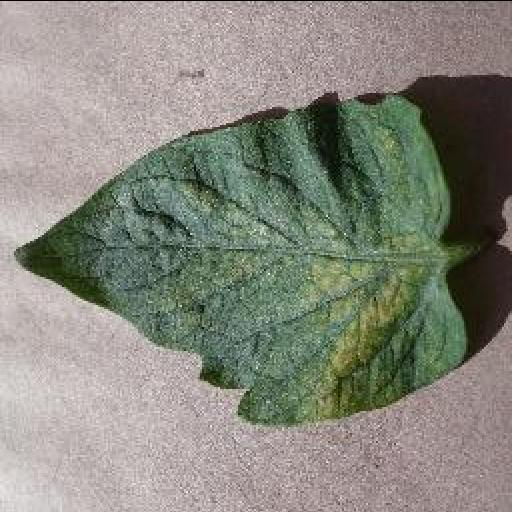disease_tomato: (11, 90, 469, 424)
